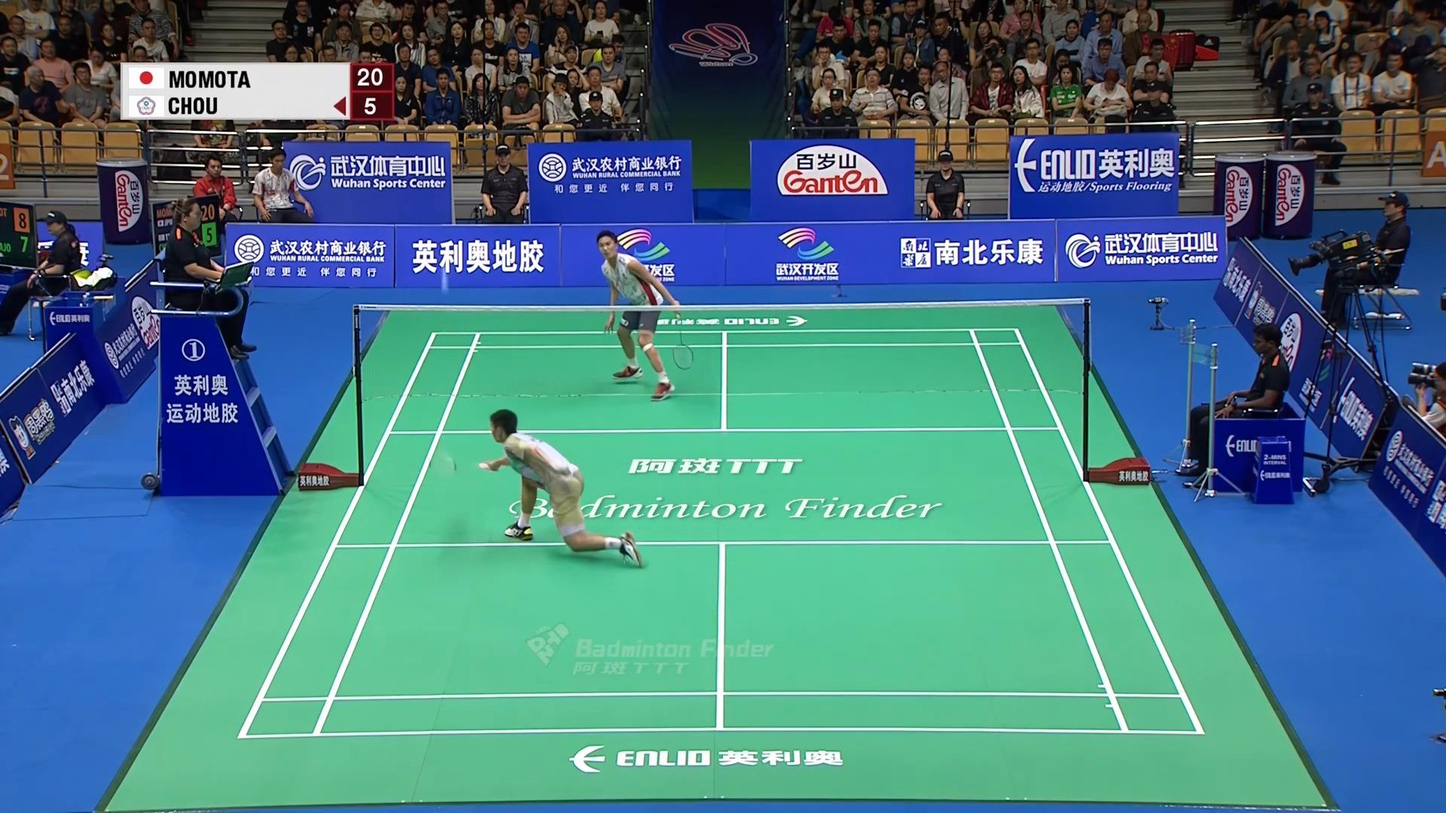player: (479, 410, 643, 568), (596, 228, 681, 401)
shuttlecock: (440, 265, 450, 292)
